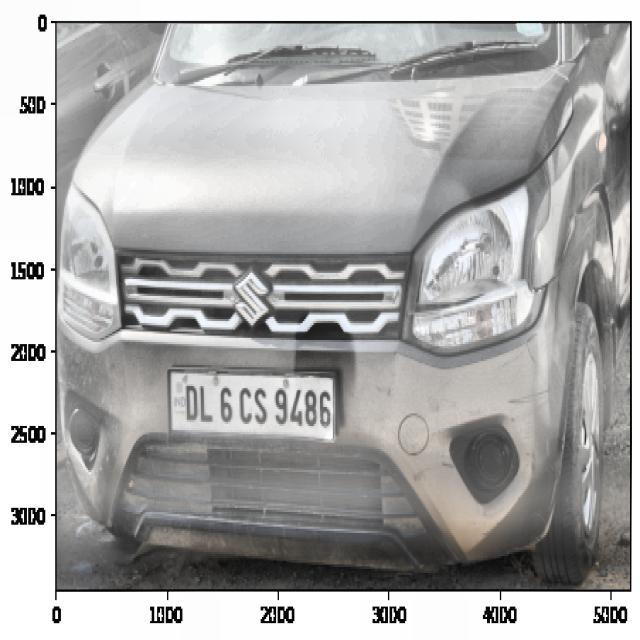license_plate: (177, 374, 334, 440)
